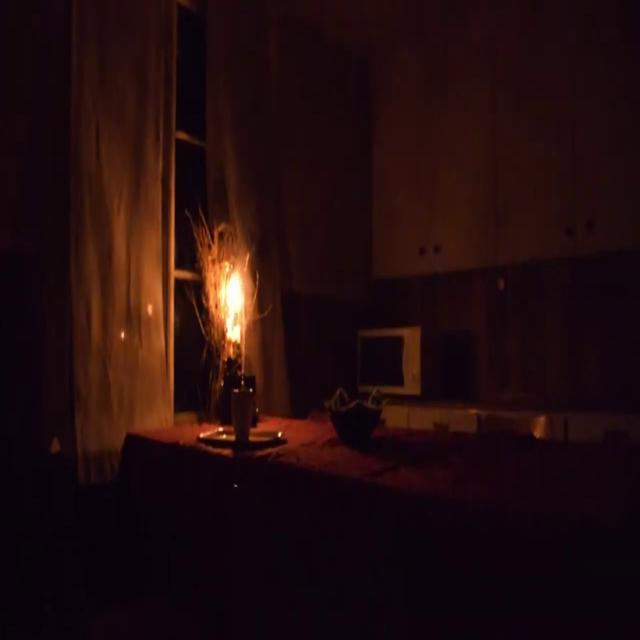Fire: (217, 248, 247, 350)
